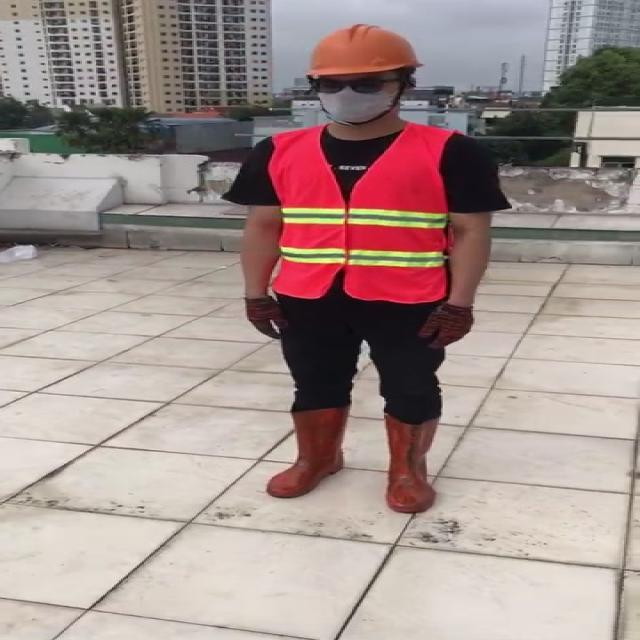boots: (266, 406, 354, 499), (382, 412, 439, 514)
